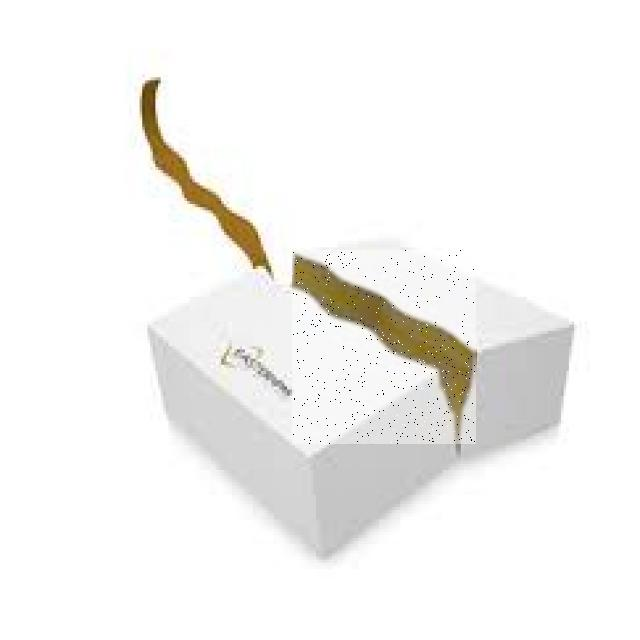tear: (292, 250, 475, 444)
